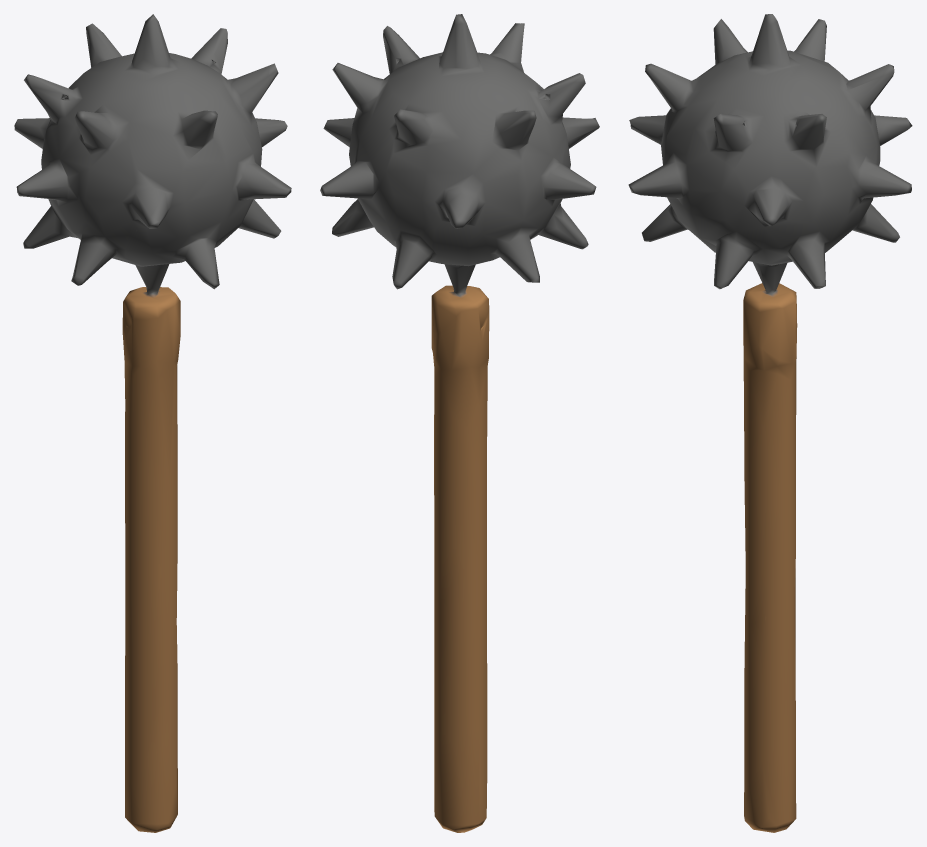
File: gen3d-morning-star-lod0.glb
The picture shows the model from 3 angles, left to right: view 1: azimuth 30°, elevation 25°; view 2: azimuth 150°, elevation 25°; view 3: azimuth 270°, elevation 25°; orthographic projection.
Parts seen in each view (by area): view 1: part_0; view 2: part_0; view 3: part_0.
Part boxes in pixels (box(x1,y1,x2,y2)): part_0: box(14, 14, 291, 832); part_0: box(320, 14, 599, 832); part_0: box(628, 14, 912, 832).
Size of the model in its own units: 0.3481 by 0.9994 by 0.3166.
